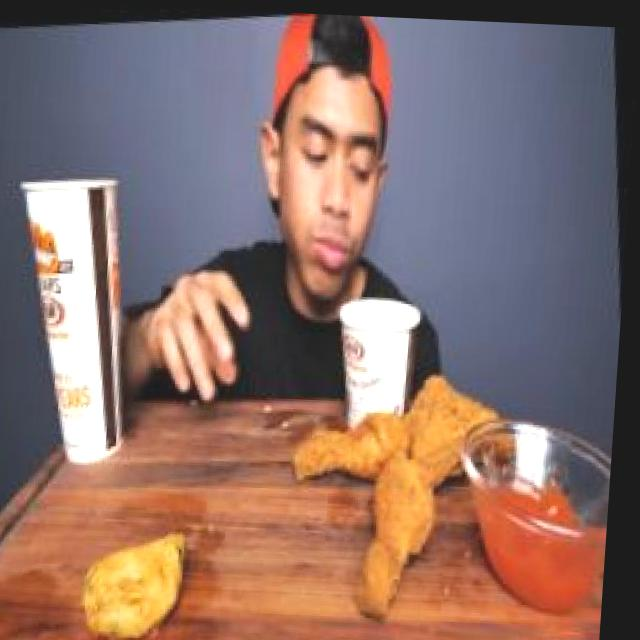AW cola: (0, 149, 155, 489)
crispy corn: (336, 278, 454, 439)
fried chicken: (281, 349, 522, 612)
perkedel: (66, 500, 209, 640)
